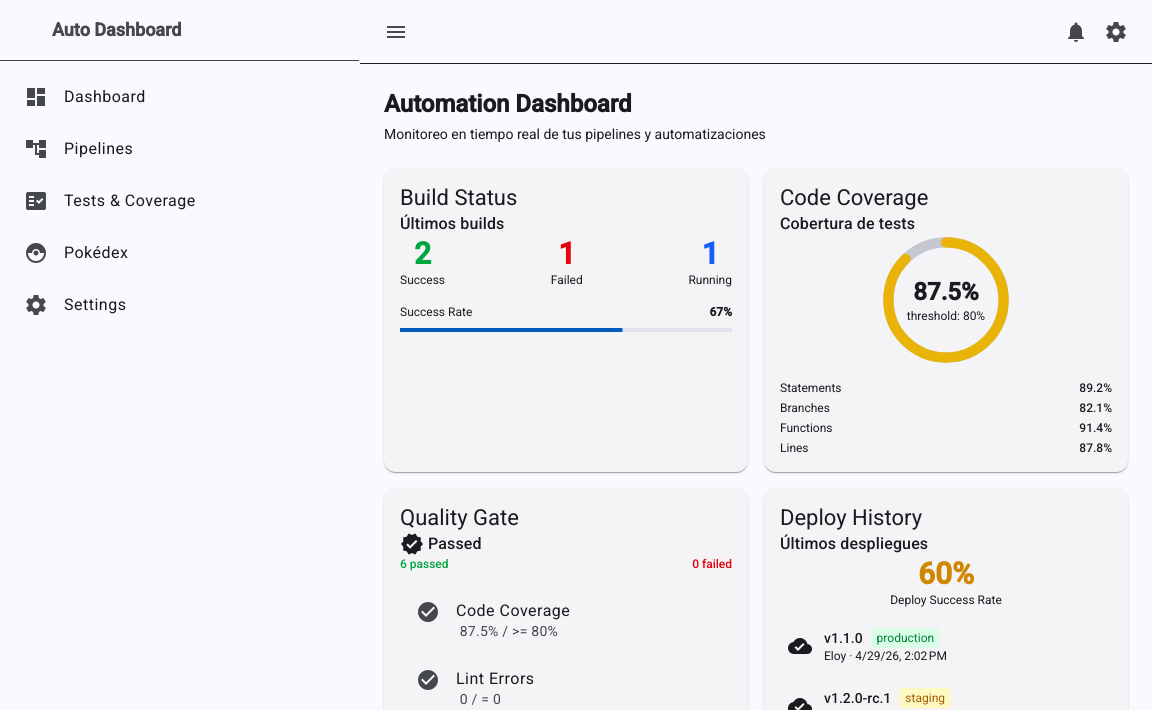
Test: Dashboard › should navigate to tests page
The image size is (1152, 710).
Click the link "Tests & Coverage". click: [110, 201]
box: [24, 189, 196, 213]
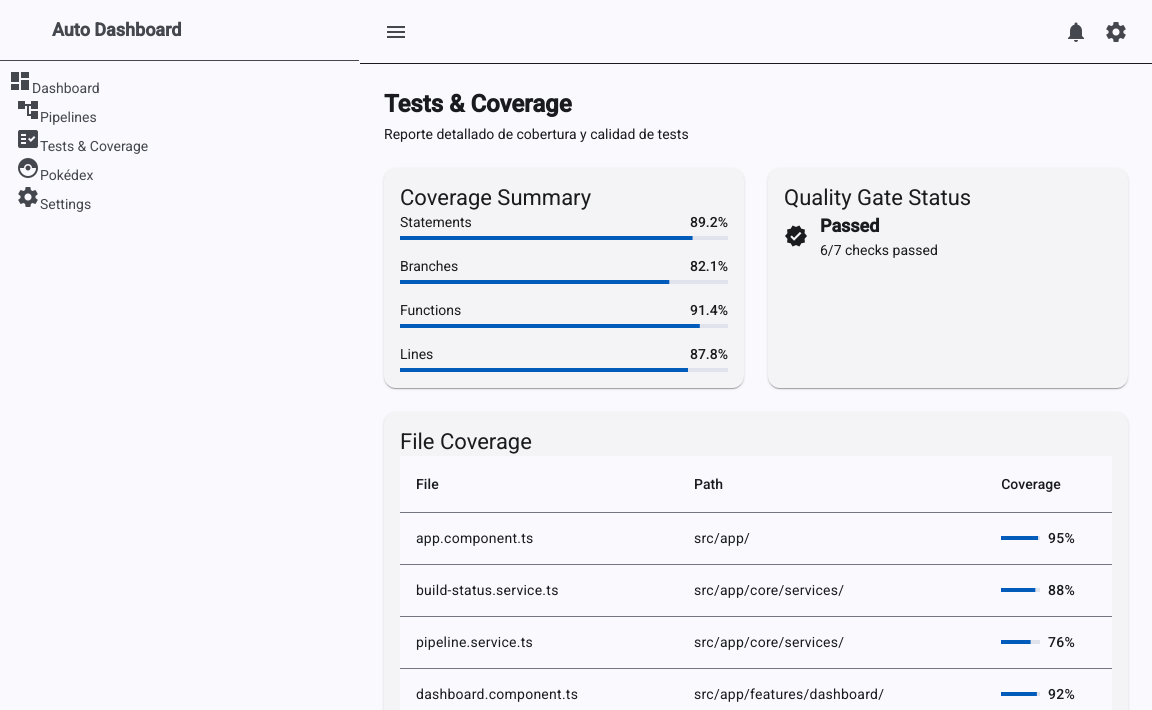
Expected: the heading "Tests & Coverage" is shown, [384, 90, 572, 118]
